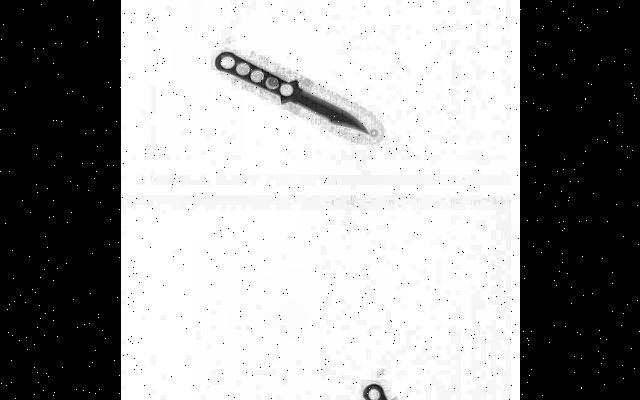Knife: (216, 43, 370, 147)
